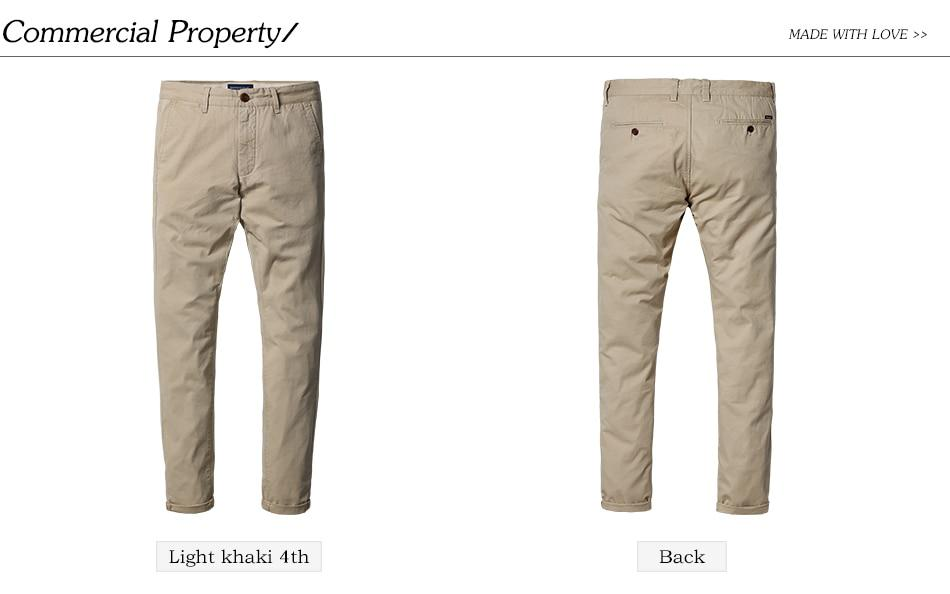pants: (592, 78, 771, 512), (152, 77, 315, 514)
